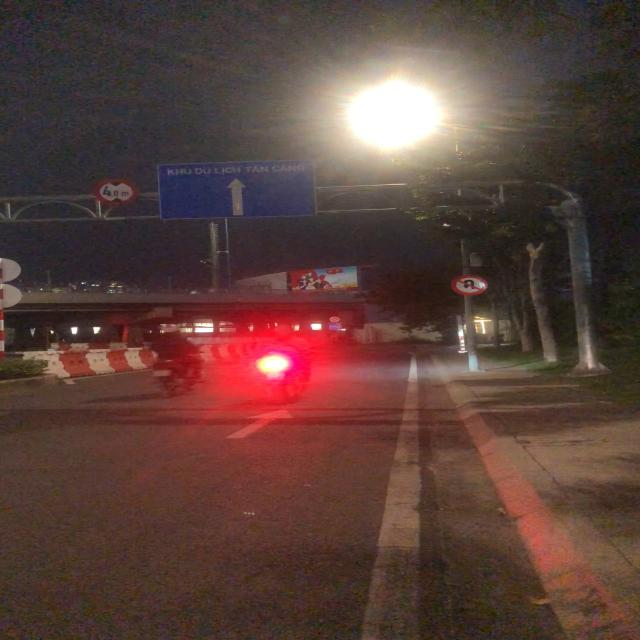Bien bao cam quay dau xe: (448, 274, 491, 297)
Bien bao han che chieu cao: (93, 178, 141, 206)
